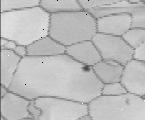good_void: (80, 64, 91, 72)
